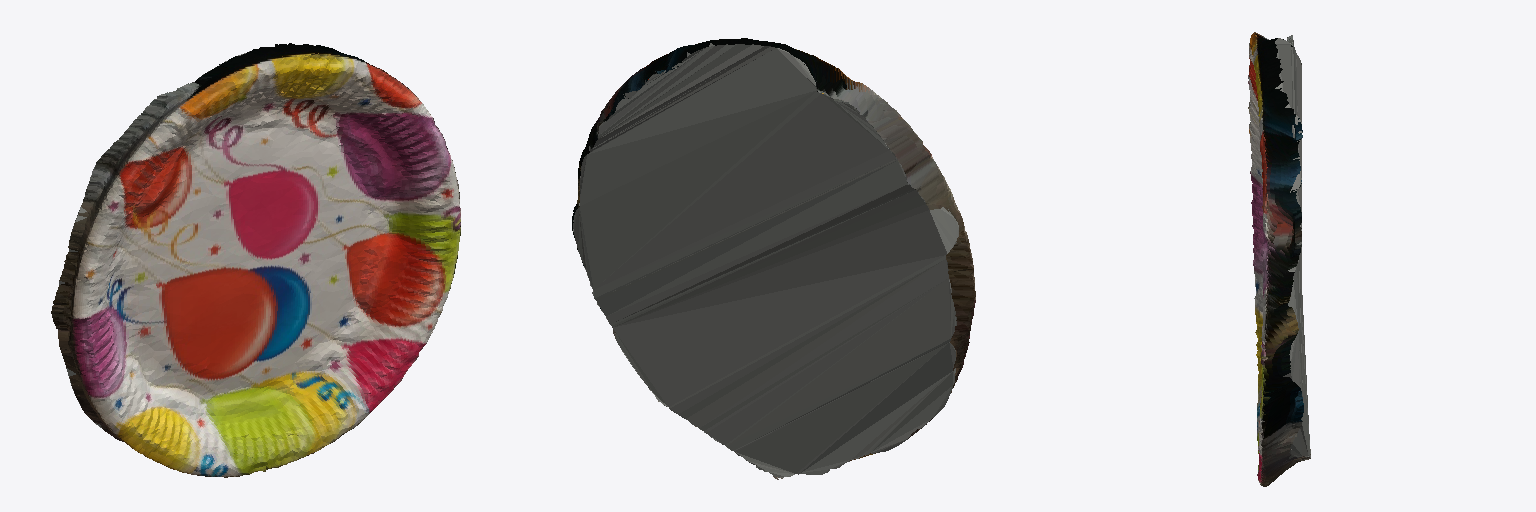
3 renders of one model, left to right at view 1: azimuth 30°, elevation 25°; view 2: azimuth 150°, elevation 25°; view 3: azimuth 270°, elevation 25°, orthographic.
Bounding box in the file's own units: 0.2259 × 0.2283 × 0.0317.
Materials: 1 (1 with a texture image).